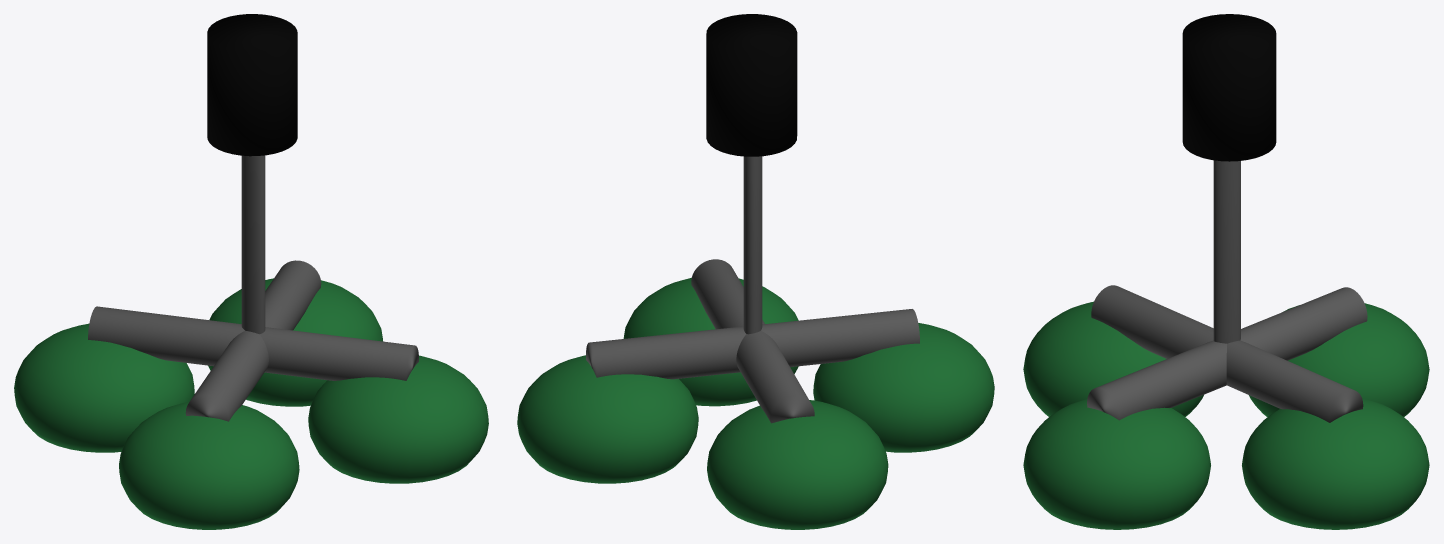
The model's file is lustre.fbx.
The picture shows the model from 3 angles, left to right: view 1: azimuth 30°, elevation 25°; view 2: azimuth 150°, elevation 25°; view 3: azimuth 270°, elevation 25°; orthographic projection. The views are drawn at different scales.
Visible parts, largest first — view 1: Sphere, Sphere.002, Sphere.006, Cylinder.003, Cylinder, Cylinder.001, Sphere.004, Cylinder.002; view 2: Sphere.006, Sphere.004, Sphere, Cylinder.001, Cylinder.003, Cylinder, Sphere.002, Cylinder.002; view 3: Sphere.002, Sphere.004, Cylinder.003, Cylinder, Cylinder.001, Sphere, Sphere.006, Cylinder.002.
Boxes of the visible parts, bbox=[...] form: Sphere: bbox=[119, 401, 299, 529]; Sphere.002: bbox=[308, 355, 488, 483]; Sphere.006: bbox=[14, 323, 194, 452]; Cylinder.003: bbox=[207, 14, 297, 156]; Cylinder: bbox=[88, 306, 418, 380]; Cylinder.001: bbox=[185, 260, 321, 421]; Sphere.004: bbox=[208, 278, 383, 406]; Cylinder.002: bbox=[241, 155, 265, 334]; Sphere.006: bbox=[707, 400, 888, 529]; Sphere.004: bbox=[517, 355, 698, 483]; Sphere: bbox=[813, 323, 994, 452]; Cylinder.001: bbox=[586, 309, 919, 379]; Cylinder.003: bbox=[706, 14, 797, 156]; Cylinder: bbox=[691, 259, 814, 423]; Sphere.002: bbox=[623, 278, 798, 406]; Cylinder.002: bbox=[743, 156, 762, 334]; Sphere.002: bbox=[1023, 399, 1210, 529]; Sphere.004: bbox=[1242, 398, 1429, 529]; Cylinder.003: bbox=[1182, 14, 1276, 161]; Cylinder: bbox=[1087, 287, 1367, 420]; Cylinder.001: bbox=[1091, 285, 1363, 422]; Sphere: bbox=[1023, 301, 1203, 416]; Sphere.006: bbox=[1249, 303, 1429, 416]; Cylinder.002: bbox=[1213, 160, 1240, 343].
Bounding box in the file's own units: 883 × 1020 × 865.
